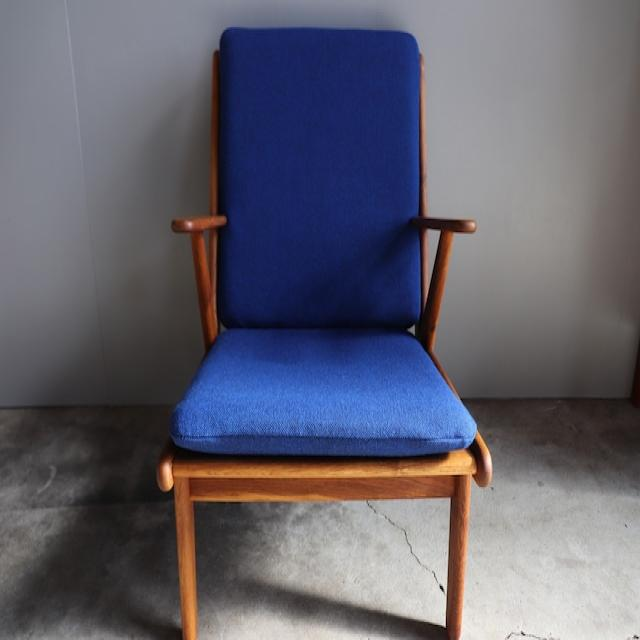chair vintage: (154, 19, 496, 640)
